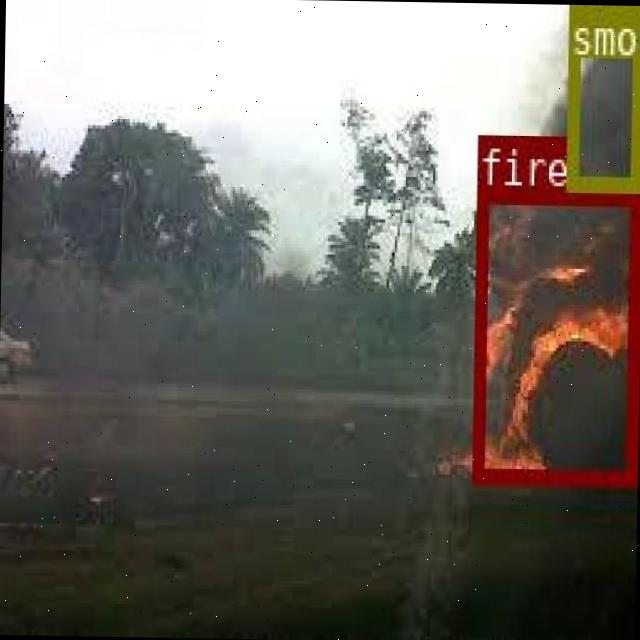fire: (470, 184, 638, 480)
smoke: (563, 4, 640, 186)
